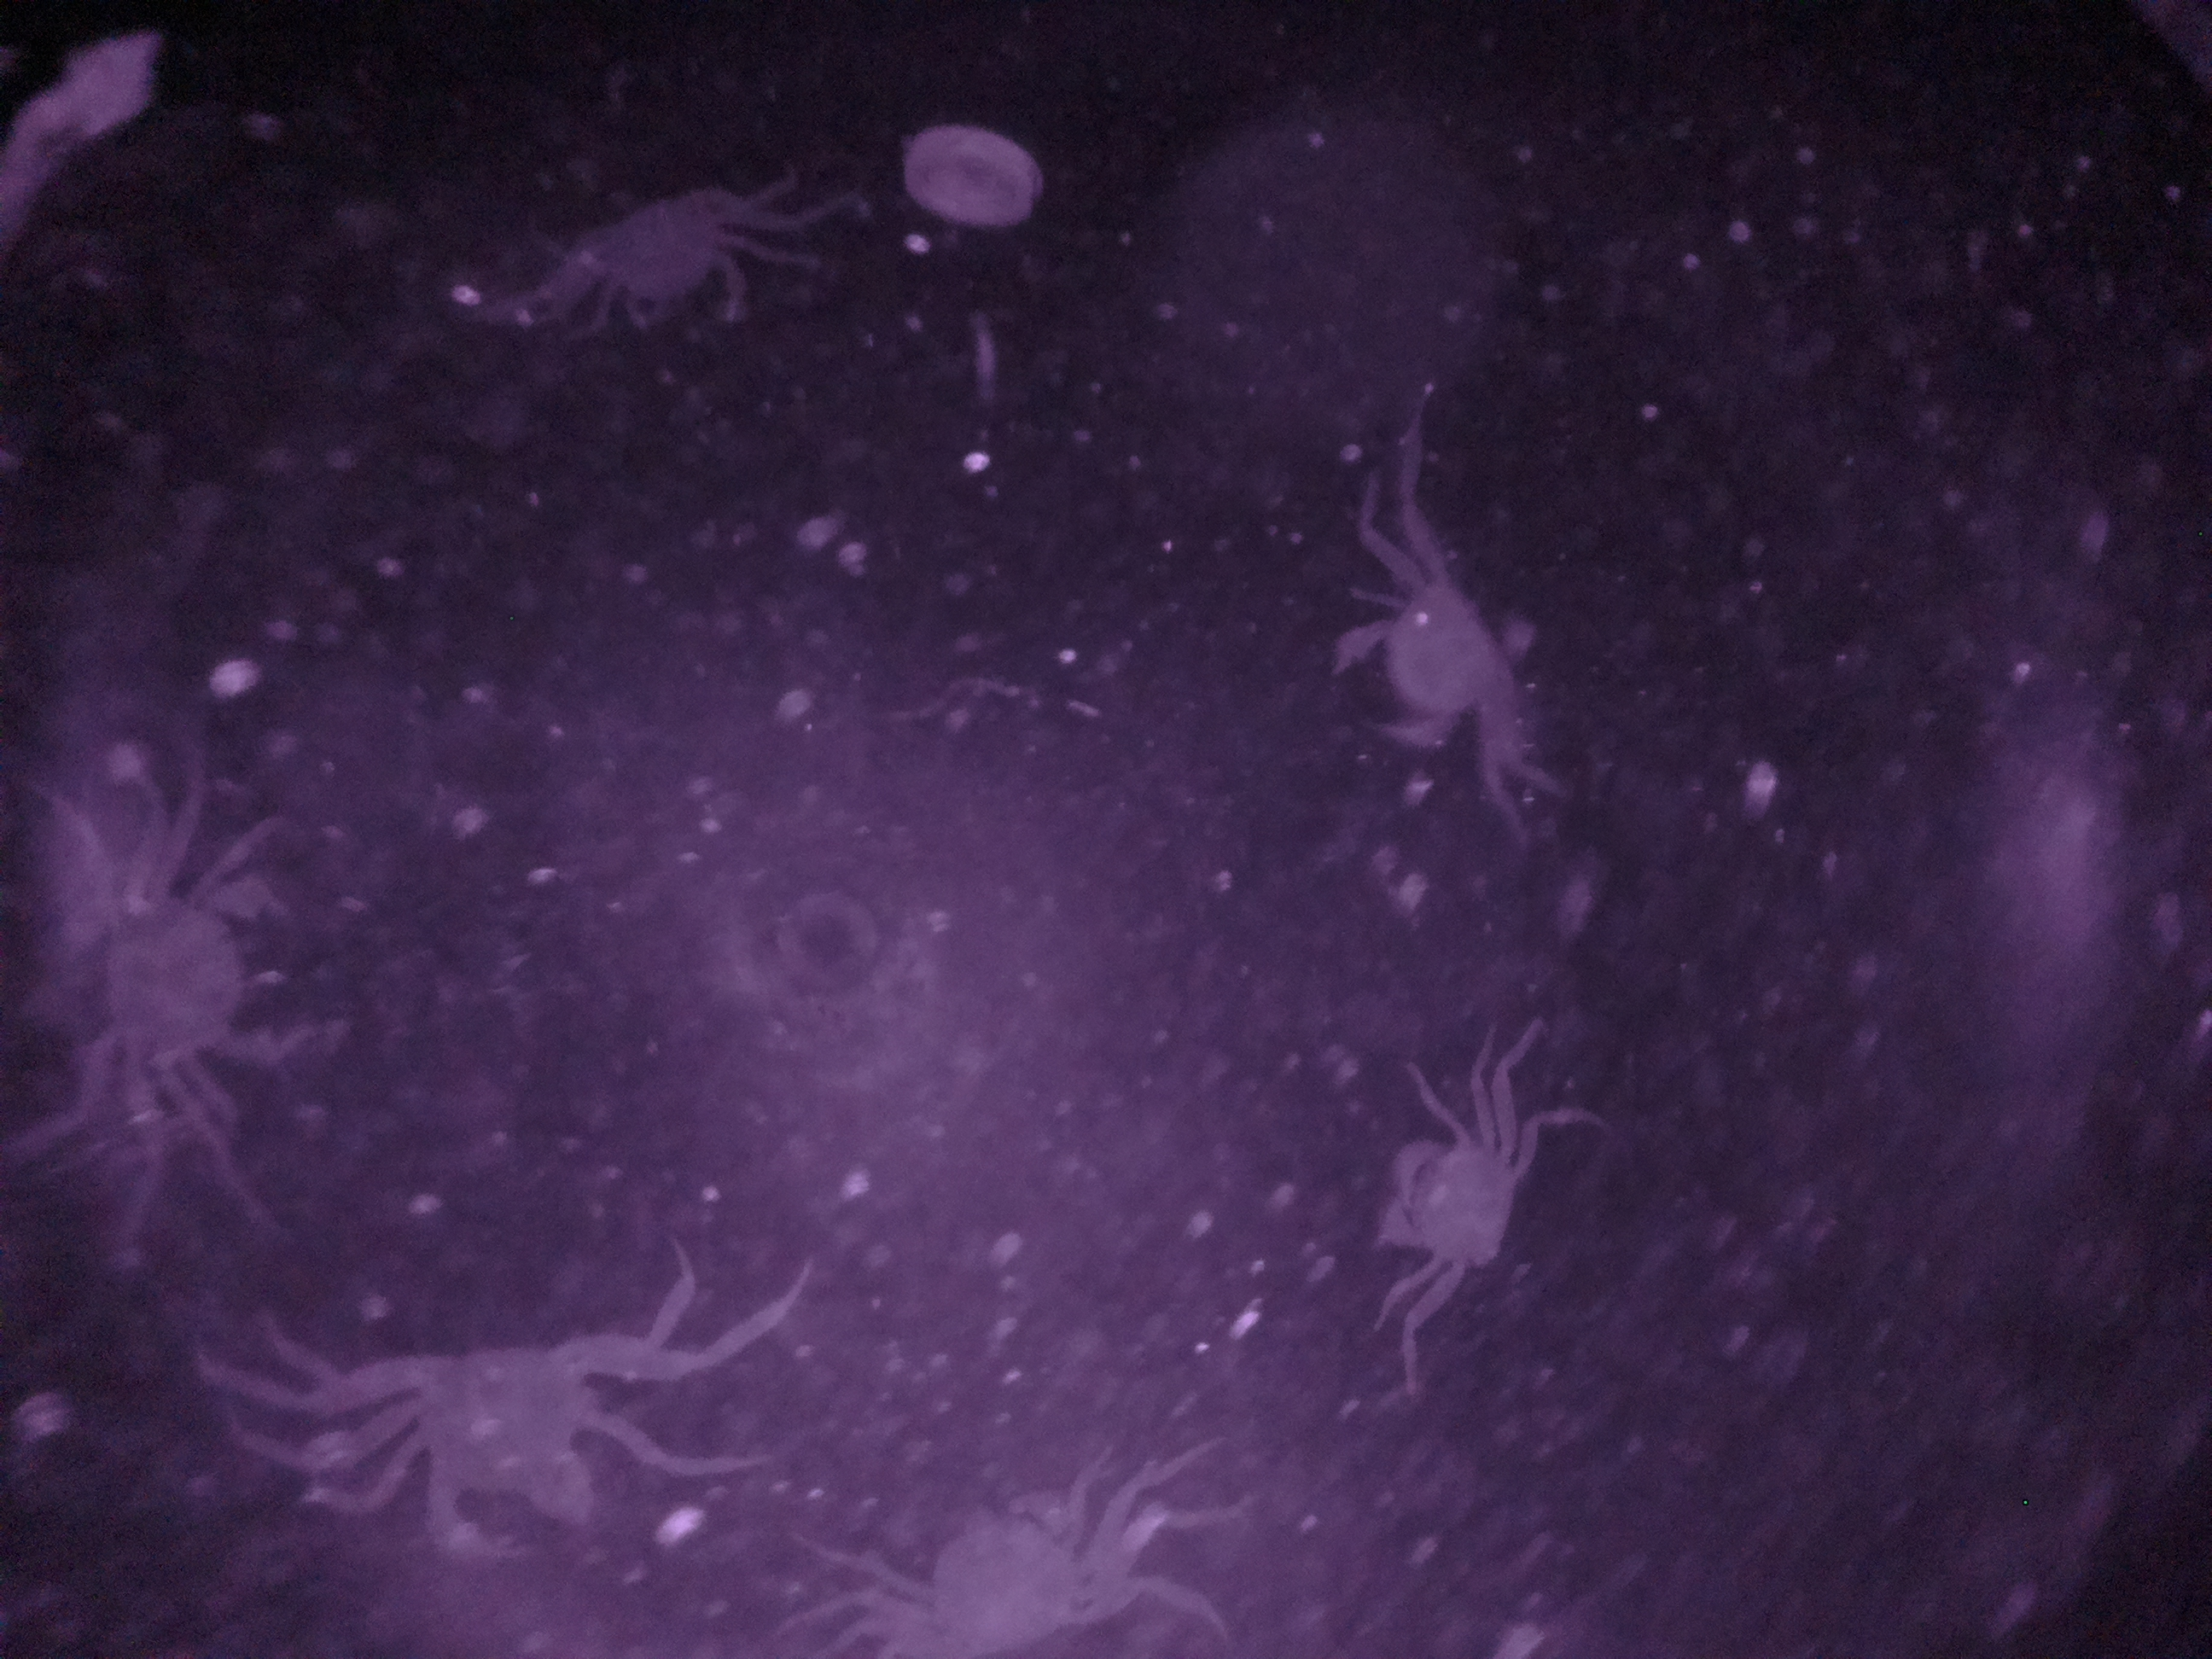Crab: (37, 854, 380, 1119), (378, 1316, 643, 1565), (880, 1466, 1139, 1659), (1357, 1094, 1533, 1297)
